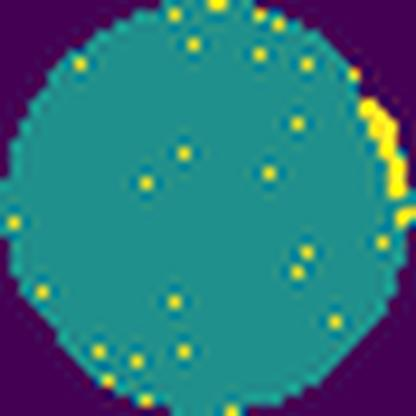Edge-Loc: (355, 96, 411, 202)
